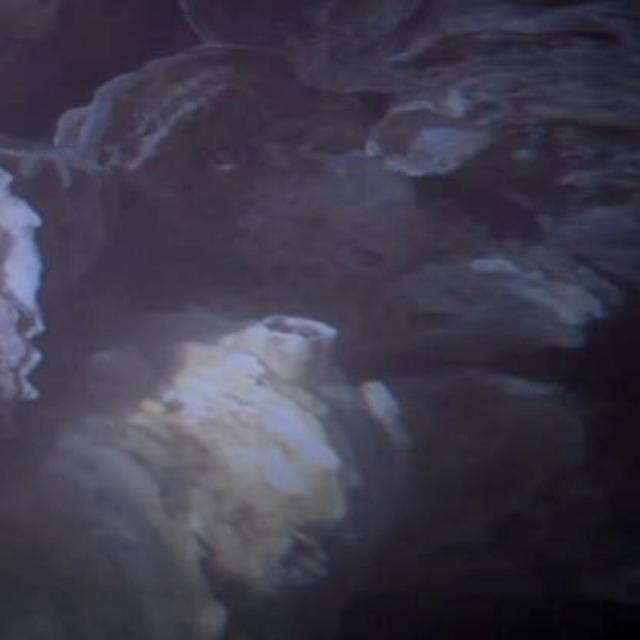Oyster-Closed: (0, 329, 409, 638), (361, 257, 602, 374), (0, 178, 52, 406)
Oyster-Open: (56, 48, 313, 261)
